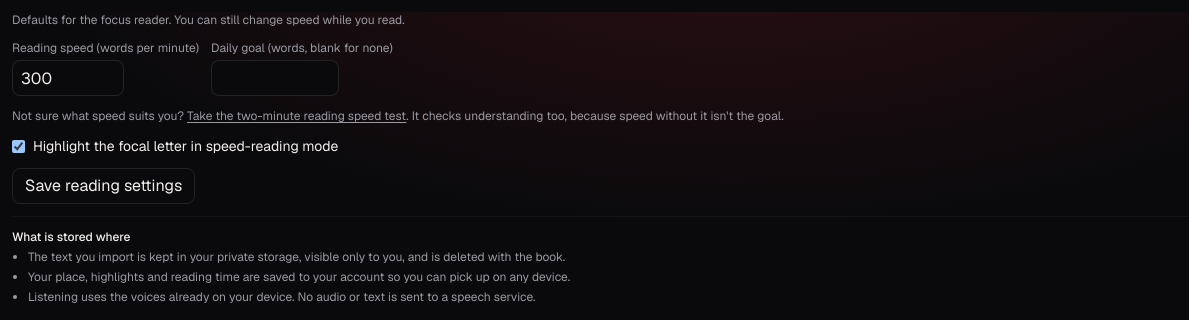
Scenario: ReaderSettings › saves the three values in one patch, blank goal as null
Replace the text in the field named "Reading speed in words per minute" with "450". click: x=68, y=78
box: [12,60,124,96]
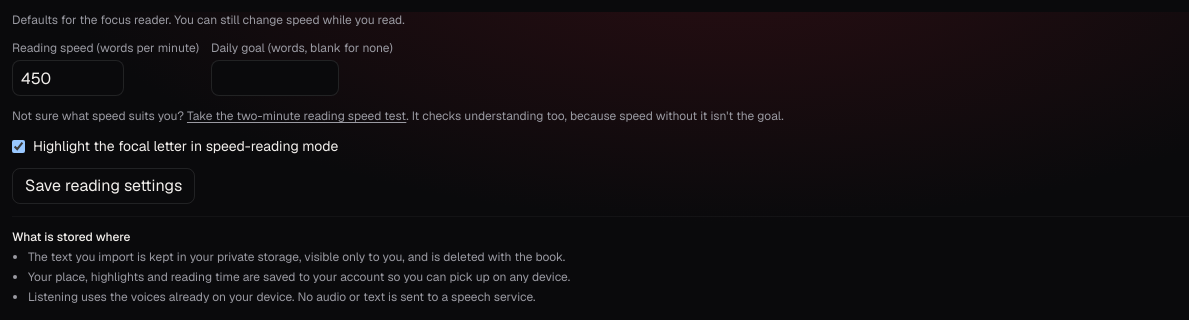
Click the checkbox labelled "Highlight the focal letter". click: x=18, y=146
box: [12,140,25,152]
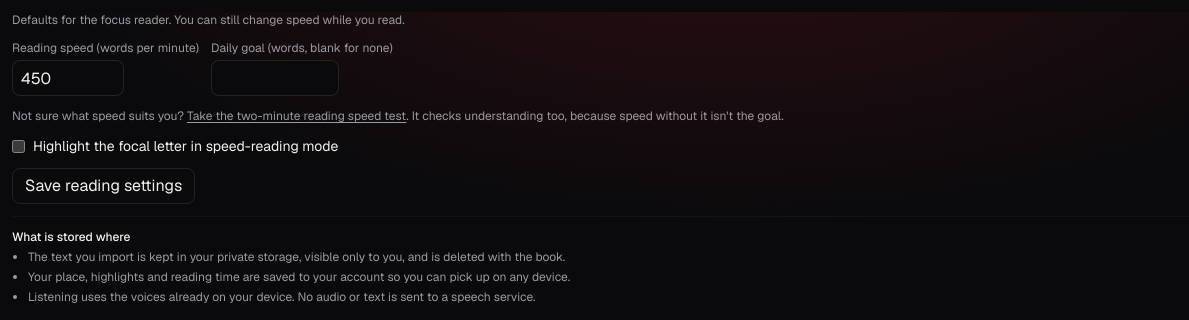
Click the button "Save reading settings". click: x=104, y=186
box: [12,168,195,204]
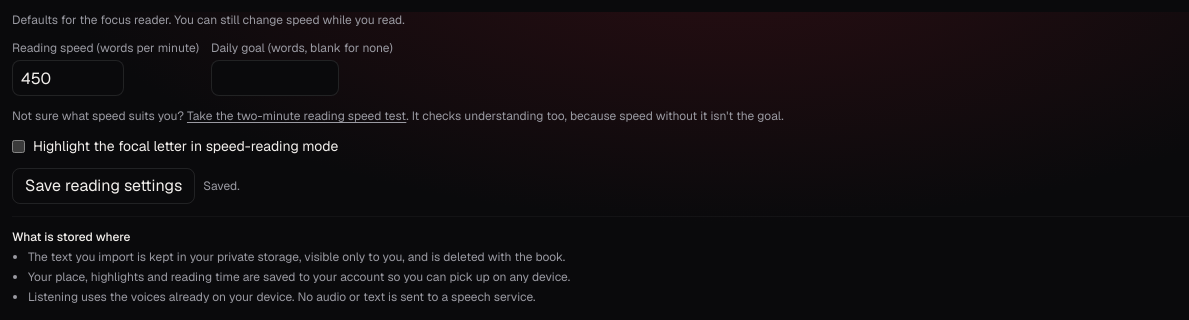
Result: the message reads "Saved." at [203,178,240,194]
